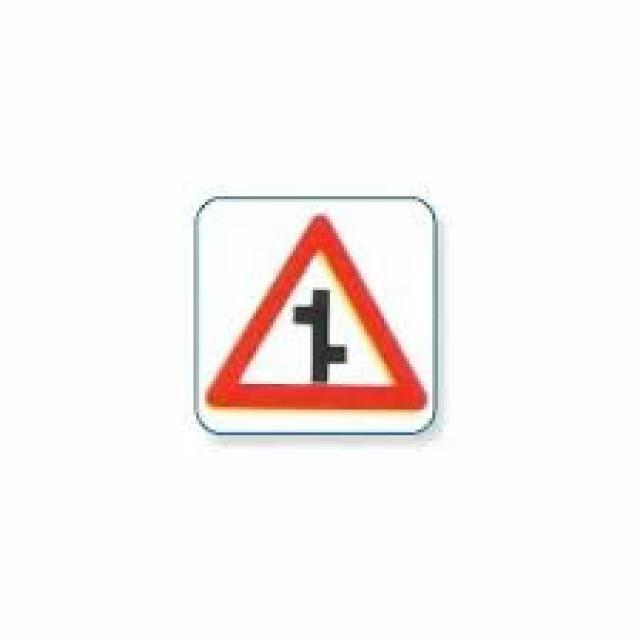staggered intersection: (205, 213, 427, 406)
